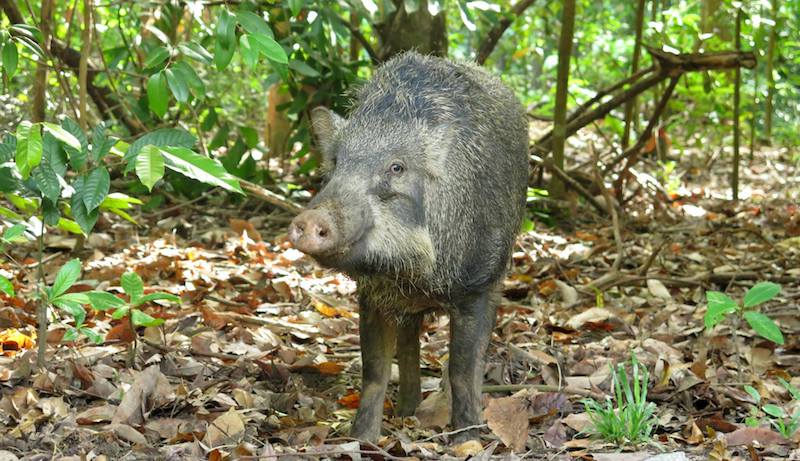boar: (272, 40, 543, 448)
